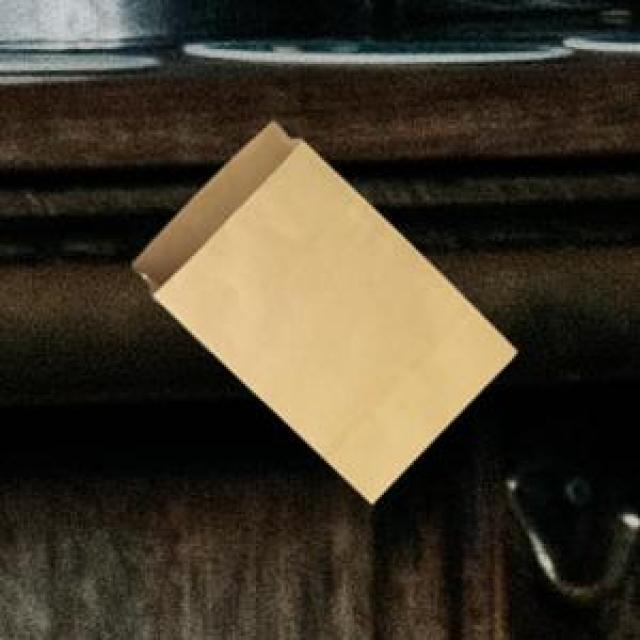paper: (128, 117, 512, 499)
